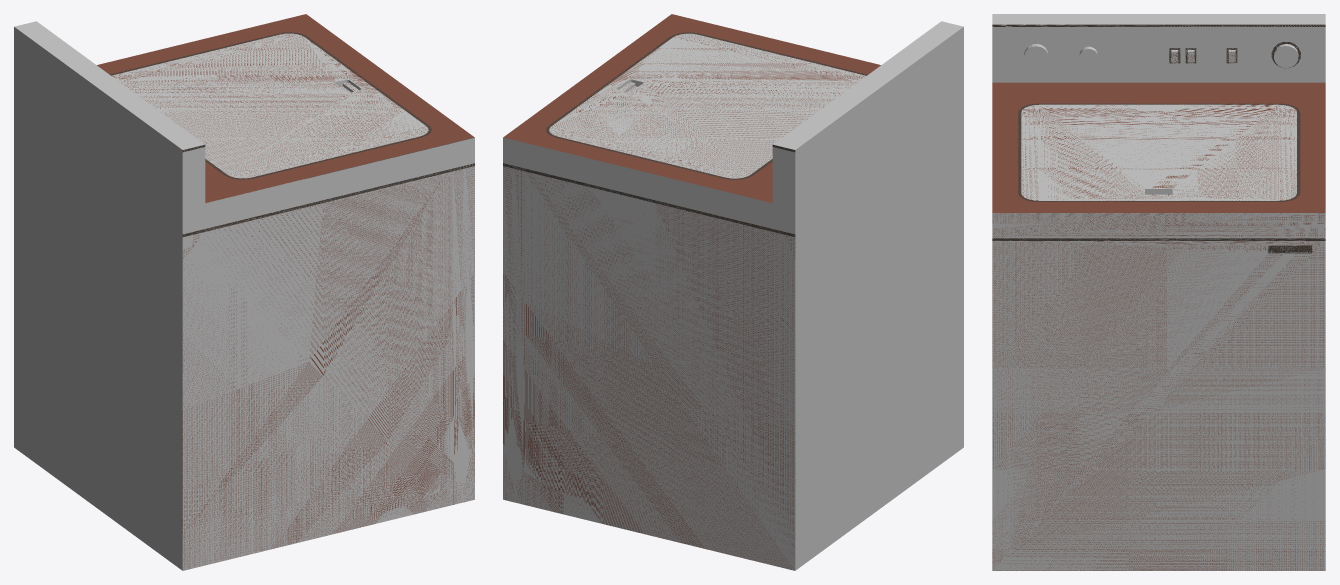
The picture shows the model from 3 angles, left to right: view 1: azimuth 30°, elevation 25°; view 2: azimuth 150°, elevation 25°; view 3: azimuth 270°, elevation 25°; orthographic projection.
Visible parts, largest first — view 1: mesh2_mesh2-geometry; view 2: mesh2_mesh2-geometry; view 3: mesh2_mesh2-geometry.
Part boxes in pixels (x1,y1,x2,y2): mesh2_mesh2-geometry: (14, 14, 474, 570); mesh2_mesh2-geometry: (503, 14, 963, 570); mesh2_mesh2-geometry: (992, 14, 1325, 570).
Size of the model in its own units: 0.5067 by 0.6976 by 0.5067.
